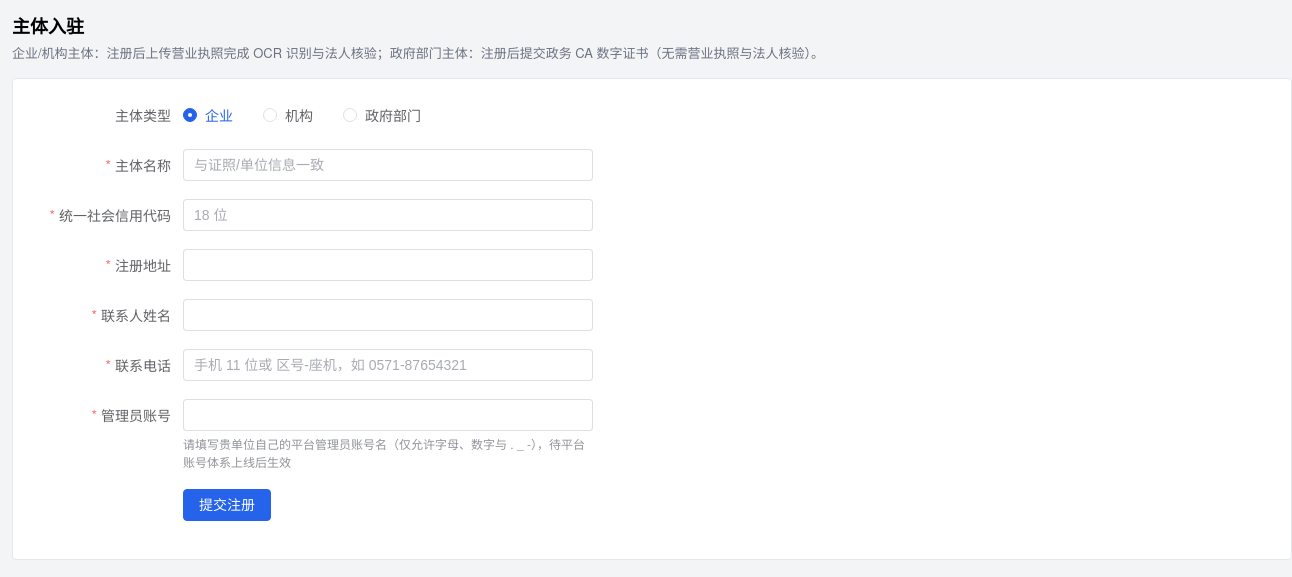
Test: 主体注册页（WBS-3.1.5 界面化） › 必填缺失点击提交：逐字段显示原因且不发送注册请求（F1 红锚：删 rules 或 validate 即红）
Click the button "提交注册".
click(227, 505)  # box [183, 489, 271, 521]
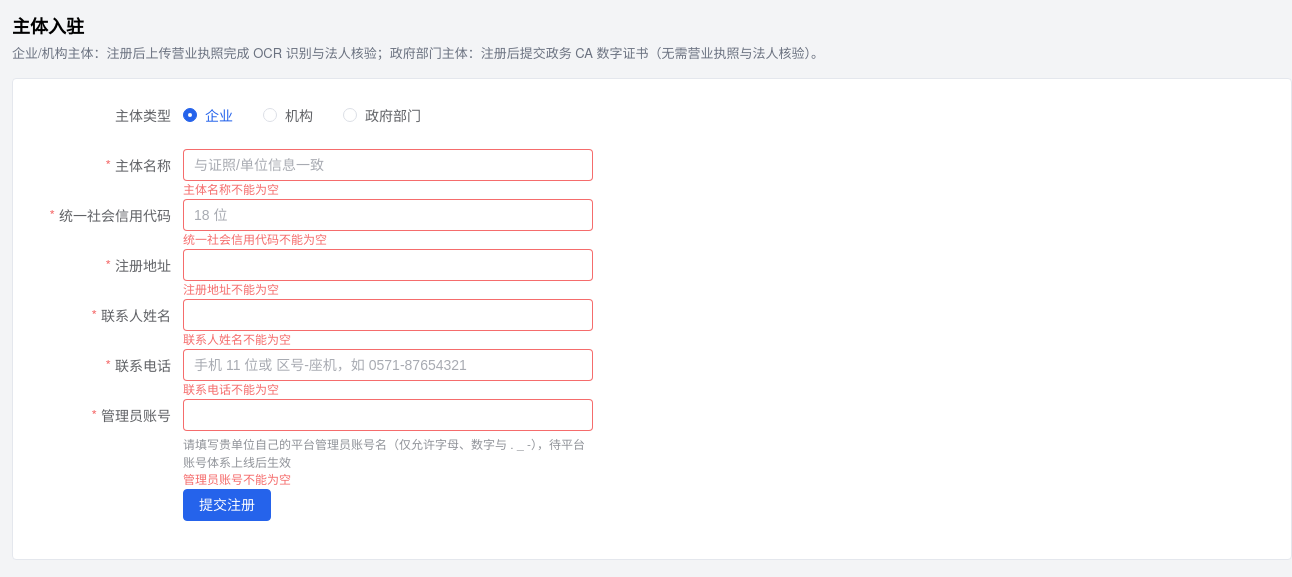
Now the text "主体名称不能为空" is shown, box [183, 181, 279, 195]
Now the text "统一社会信用代码不能为空" is shown, box [183, 231, 327, 245]
Now the text "注册地址不能为空" is shown, box [183, 281, 279, 295]
